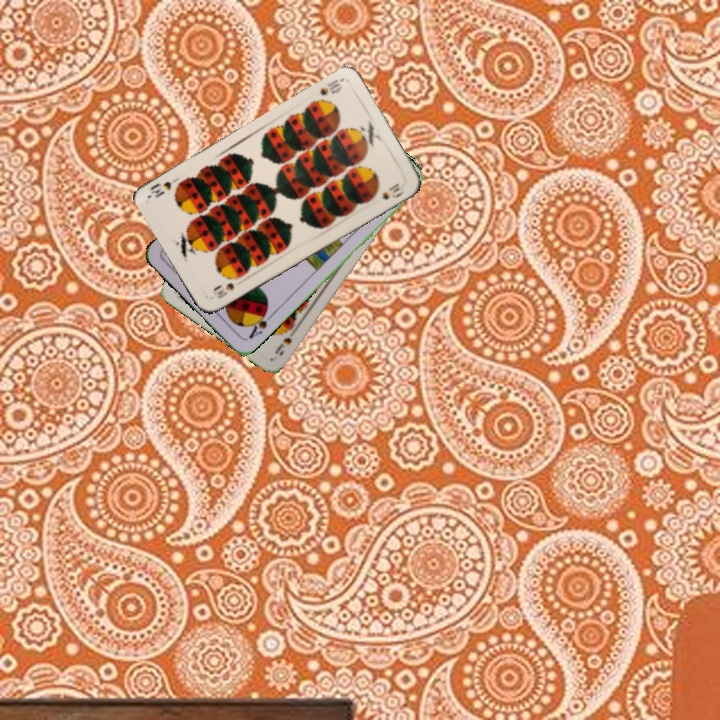S10: (209, 273, 242, 302), (315, 74, 345, 98)
S9: (271, 324, 299, 359)
SA: (244, 305, 276, 342)
